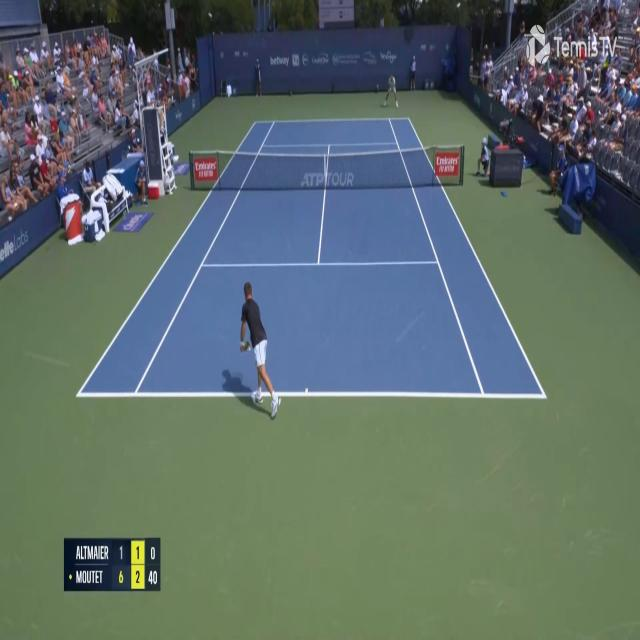tennis-player: (239, 278, 282, 419), (382, 75, 399, 110)
